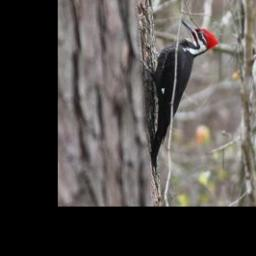Woodpecker: (140, 19, 221, 174)
